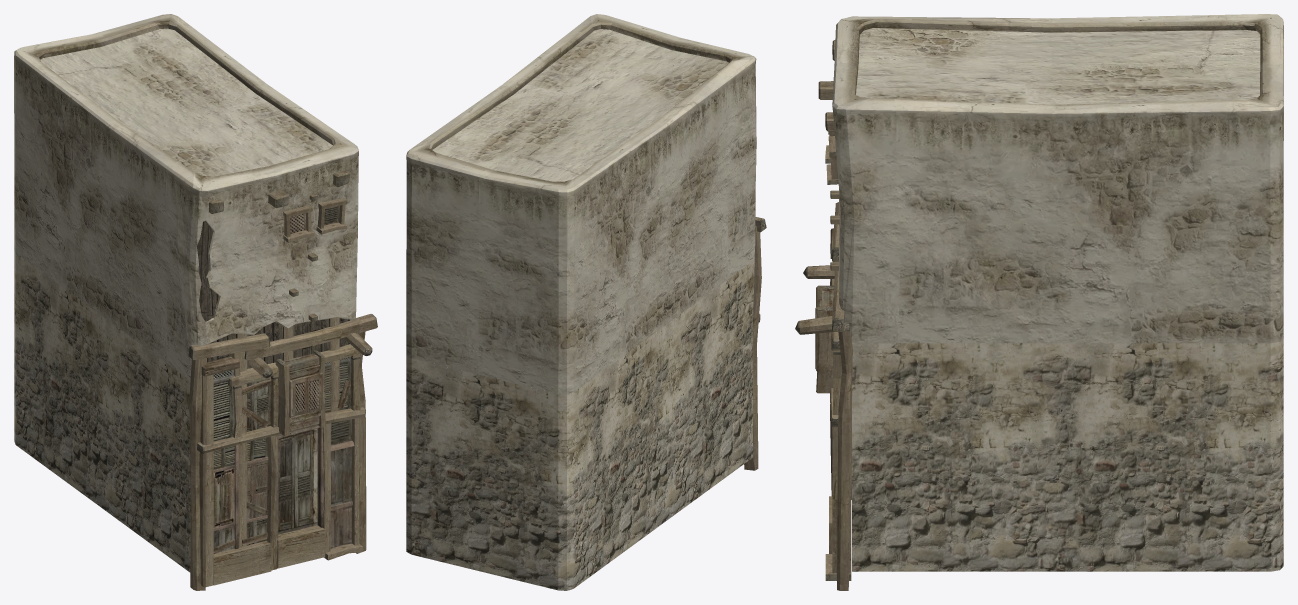
Rendered from TW2_5_HOUSE_02_25-transformed.glb.
3 renders of one model, left to right at view 1: azimuth 30°, elevation 25°; view 2: azimuth 150°, elevation 25°; view 3: azimuth 270°, elevation 25°, orthographic. The views are drawn at different scales.
Parts seen in each view (by area): view 1: default; view 2: default; view 3: default.
Part boxes in pixels (x1,y1,x2,y2): default: (14,14,377,590); default: (406,14,766,590); default: (795,14,1283,590).
Bounding box in the file's own units: 4.14 × 8.76 × 8.02.
Materials: 4 (4 with a texture image).
